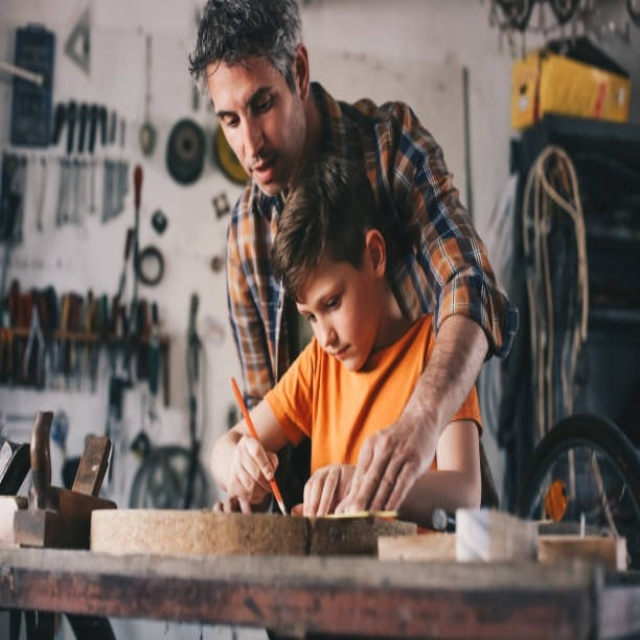Sin_gafas: (215, 74, 280, 136), (301, 271, 355, 326)
Sin_guantes: (331, 423, 429, 518), (220, 431, 282, 511)
Sin_mascara: (317, 333, 363, 369), (246, 146, 281, 191)
